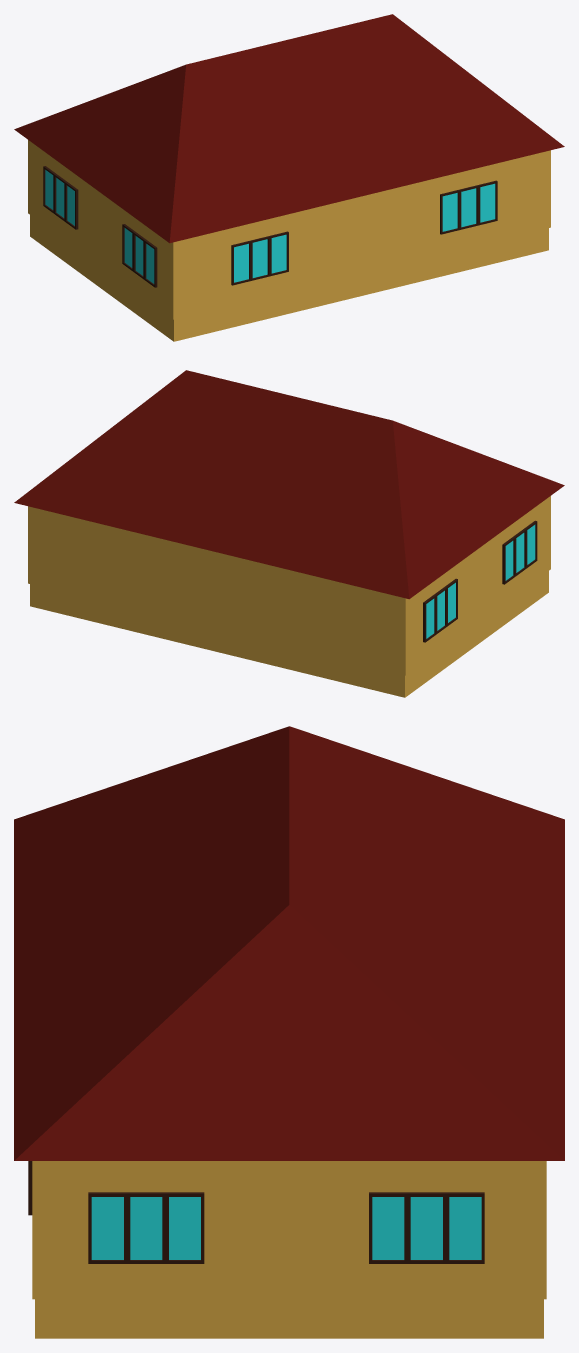
File: demo_house.dae
3 views of the same model, one above another, from view 1: azimuth 30°, elevation 25°; view 2: azimuth 150°, elevation 25°; view 3: azimuth 270°, elevation 25° (orthographic). The views are drawn at different scales.
Parts seen in each view (by area): view 1: house; view 2: house; view 3: house.
Part boxes in pixels (box(x1,y1,x2,y2)): house: box(14, 14, 564, 341); house: box(14, 370, 564, 697); house: box(14, 726, 564, 1338).
Bounding box in the file's own units: 12.57 × 8.57 × 6.2.
